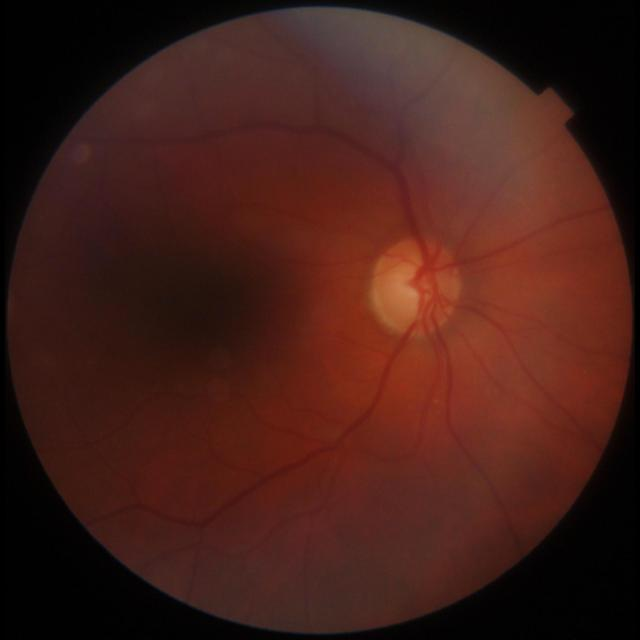OC: (403, 272, 434, 301)
OD: (372, 236, 464, 336)
